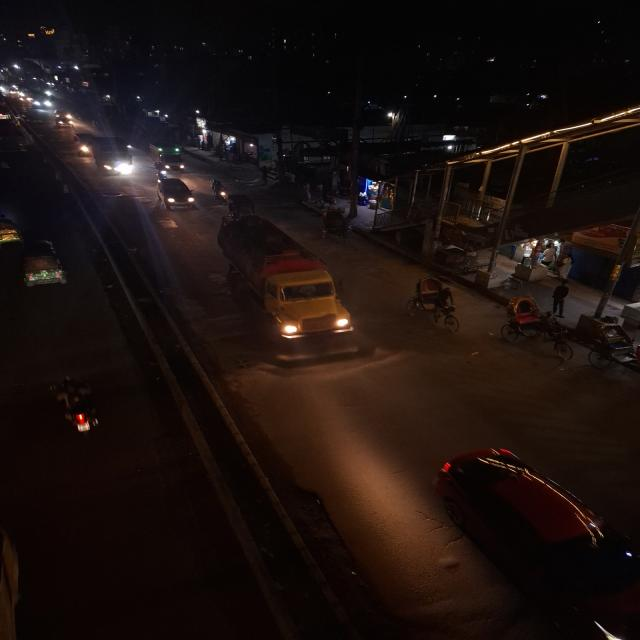car: (428, 440, 640, 640), (153, 175, 198, 213)
cng: (15, 238, 71, 294), (150, 142, 188, 172), (72, 130, 95, 158), (54, 115, 73, 128)
motorcycle: (46, 373, 104, 439), (153, 161, 168, 180)
rickshaw: (496, 294, 571, 364), (572, 309, 640, 380), (402, 274, 465, 334), (314, 208, 352, 240), (222, 192, 259, 220), (0, 211, 23, 247), (210, 178, 232, 202)
truck: (211, 212, 355, 346), (92, 134, 137, 180)
